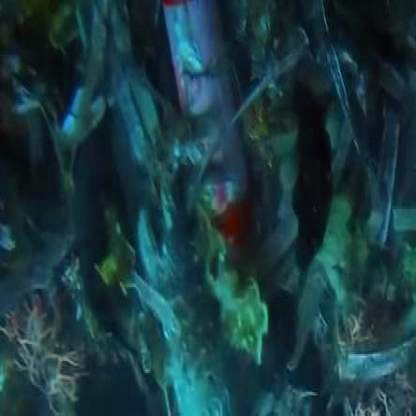pbottle: (163, 1, 290, 308)
